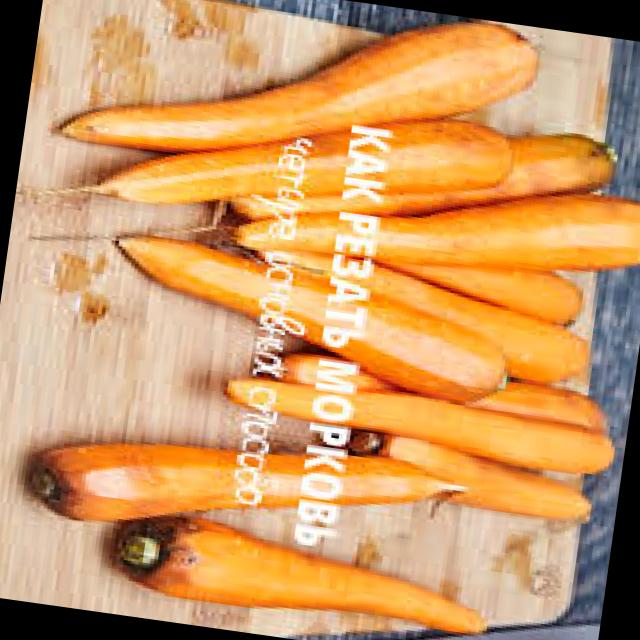Carrot: (47, 0, 547, 222), (67, 53, 534, 270), (0, 380, 473, 583), (187, 74, 626, 280), (221, 134, 640, 329), (95, 227, 543, 403), (217, 350, 631, 510), (236, 228, 602, 406), (64, 505, 528, 640), (331, 429, 622, 548)
